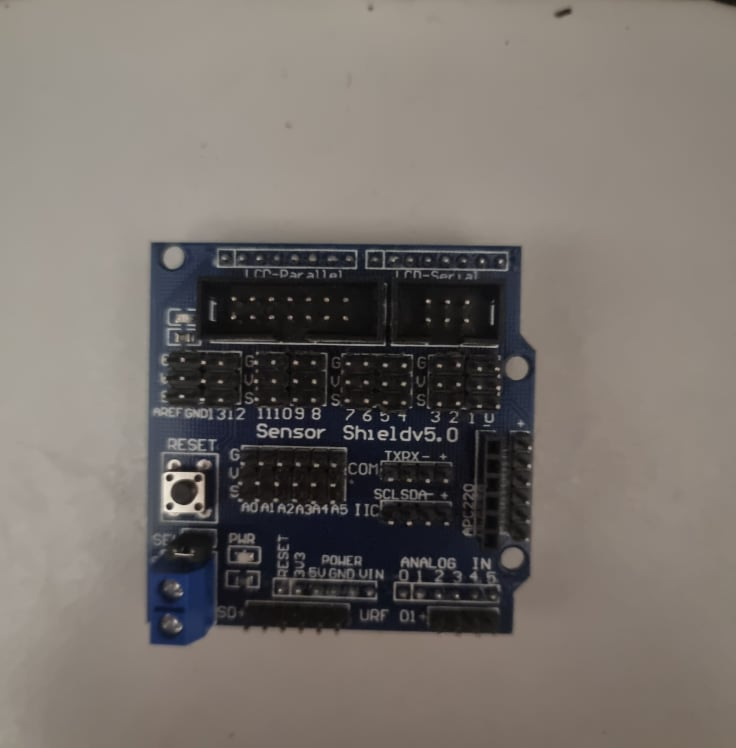5V EXPANSION: (144, 240, 530, 646)
